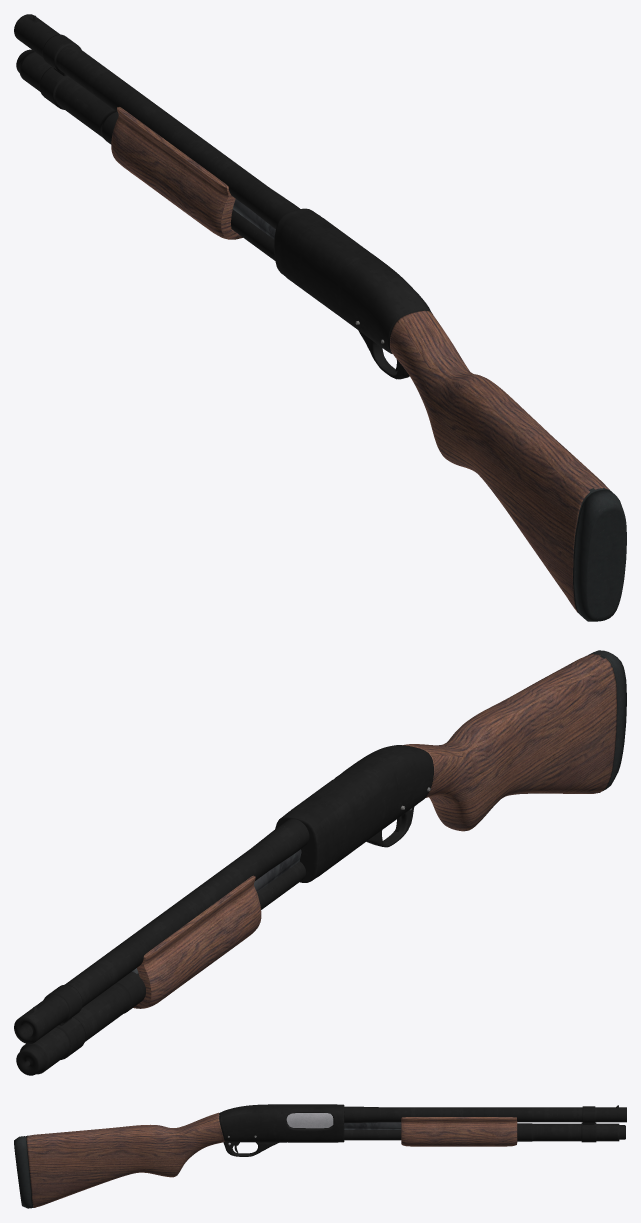
Rendered from remington-870.glb.
The picture shows the model from 3 angles, top to bottom: view 1: azimuth 30°, elevation 25°; view 2: azimuth 150°, elevation 25°; view 3: azimuth 270°, elevation 25°; orthographic projection. The views are drawn at different scales.
Parts seen in each view (by area): view 1: Black_matte_metal, Wood_dark, Wood_forend, Old_rubber; view 2: Black_matte_metal, Wood_dark, Wood_forend, Old_rubber, Dirty_metal; view 3: Black_matte_metal, Wood_dark, Wood_forend, Old_rubber, Metal.002, Dirty_metal.
Part boxes in pixels (x1,y1,x2,y2): Black_matte_metal: [14, 14, 431, 379]; Wood_dark: [390, 310, 609, 614]; Wood_forend: [111, 107, 242, 239]; Old_rubber: [573, 488, 626, 621]; Black_matte_metal: [14, 745, 433, 1075]; Wood_dark: [402, 654, 616, 831]; Wood_forend: [133, 875, 261, 1008]; Old_rubber: [588, 650, 626, 791]; Dirty_metal: [132, 849, 301, 973]; Black_matte_metal: [219, 1104, 626, 1156]; Wood_dark: [26, 1112, 224, 1207]; Wood_forend: [401, 1117, 517, 1146]; Old_rubber: [14, 1135, 33, 1208]; Metal.002: [228, 1113, 333, 1145]; Dirty_metal: [344, 1122, 401, 1129].
Bounding box in the file's own units: 0.0478 × 0.1829 × 1.
Materials: 6 (6 with a texture image).
